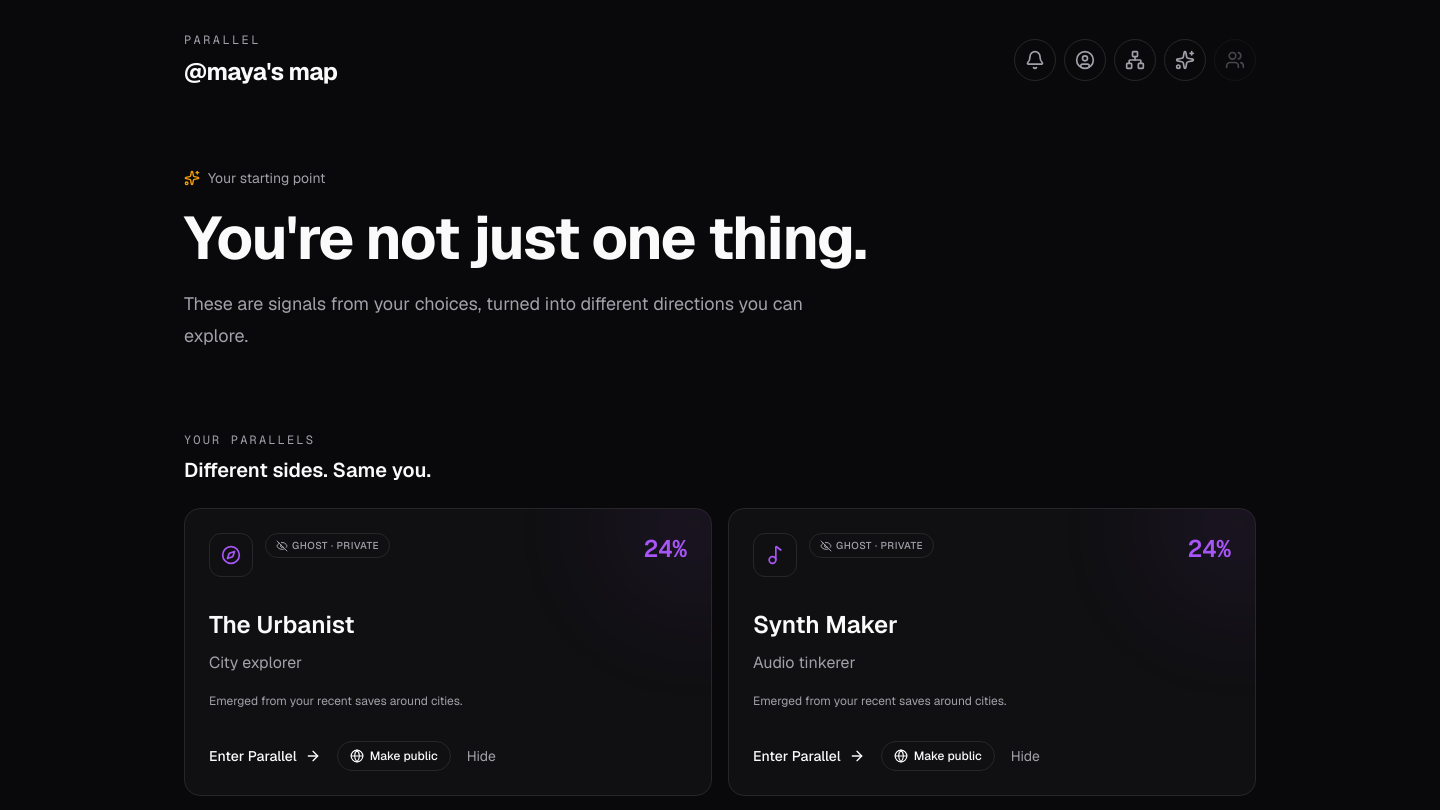
Test: ParallelCard Ghost Mode visibility controls › MapPage immediately updates only the published Parallel without retaining stale Ghost status
The image size is (1440, 810).
Expected: the heading "The Urbanist" is shown, [209,609,354,640]
Expected: the text "Ghost · Private" is shown 2 times, [265,533,390,558]; [809,533,934,558]
// Publish only the first Ghost Parallel
Click the button "Make public" below "City explorer". click: (394, 756)
box: [337,741,451,771]
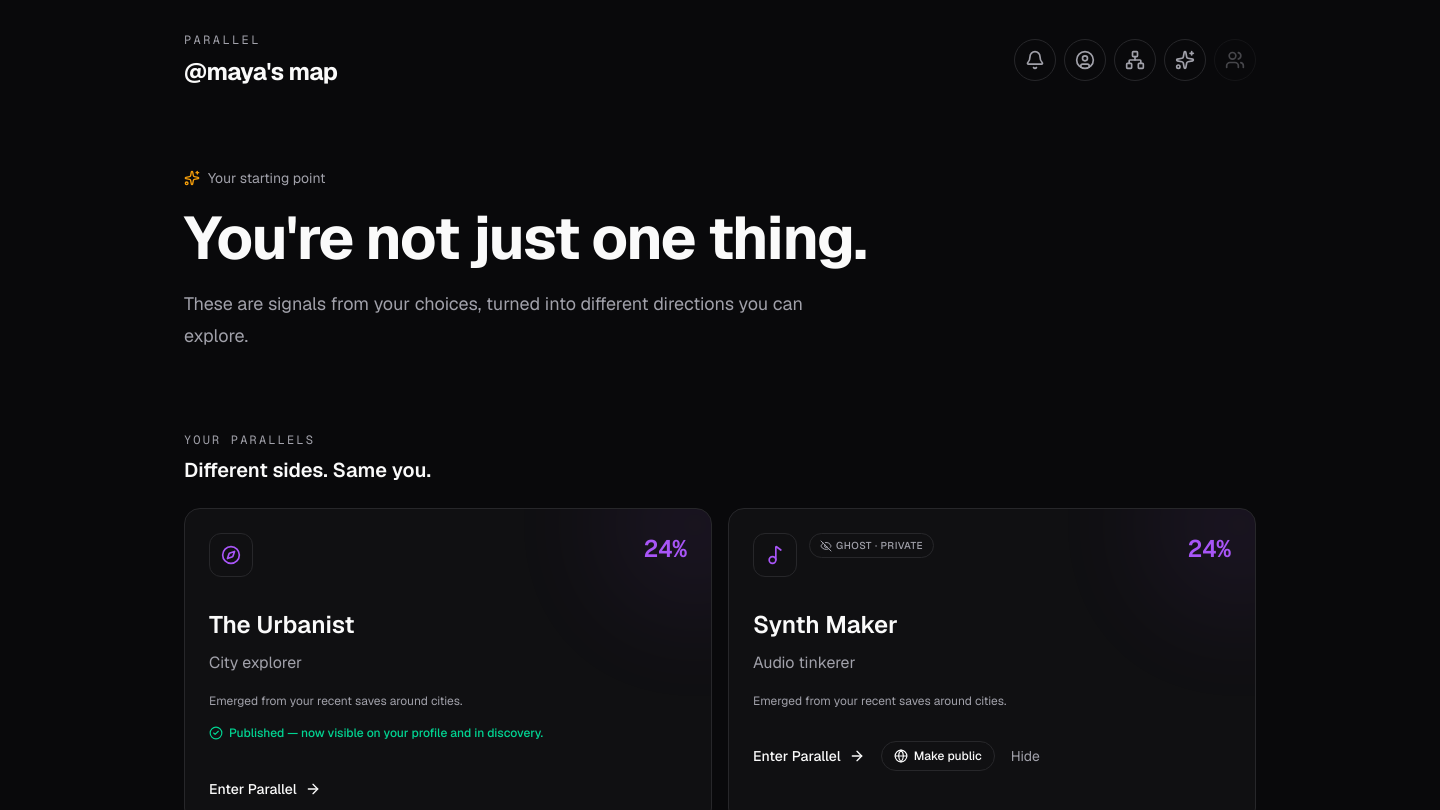
Expected: the text "Ghost · Private" is shown once, [809,533,934,558]
Expected: the message shows "Published", [229,725,543,741]
